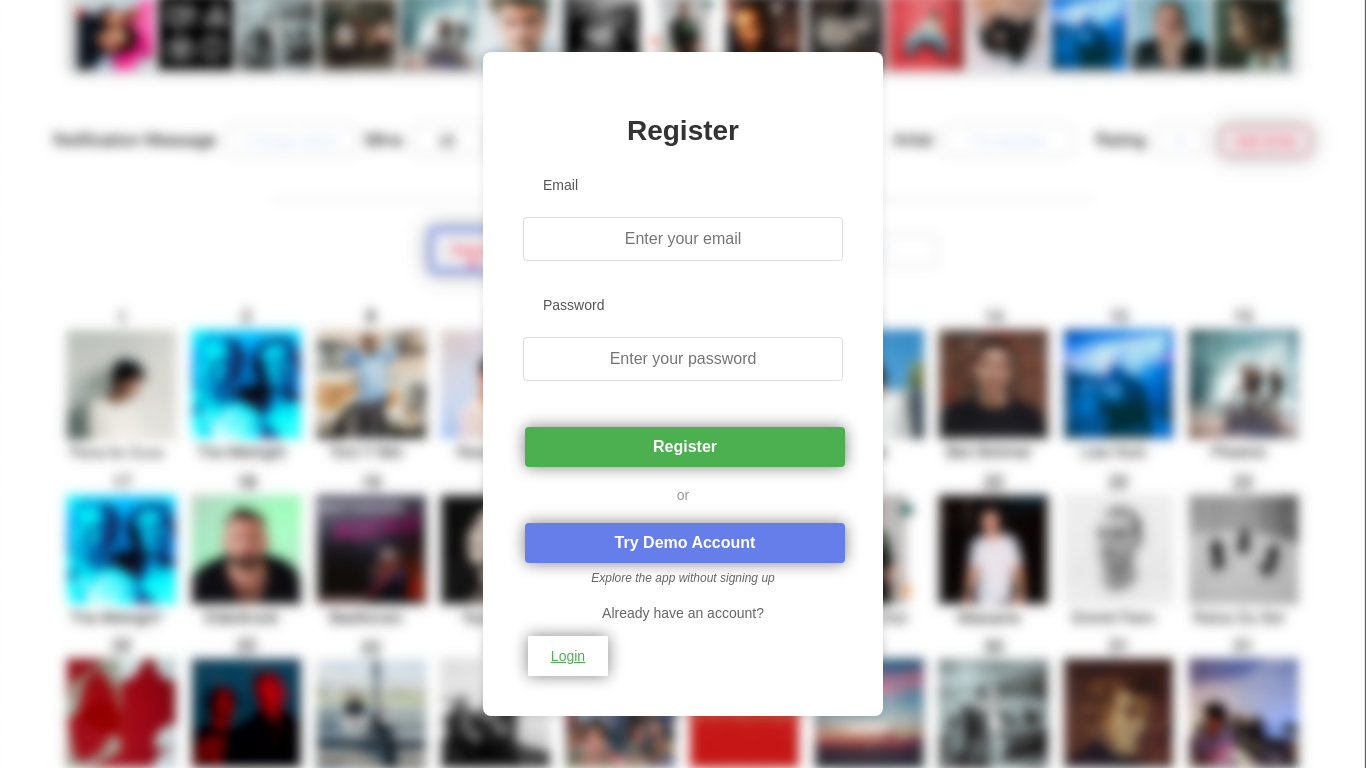
Auth › demo login › shows an error when demo login fails
Click the button "Try Demo Account". click: (685, 543)
box: [525,523,845,563]
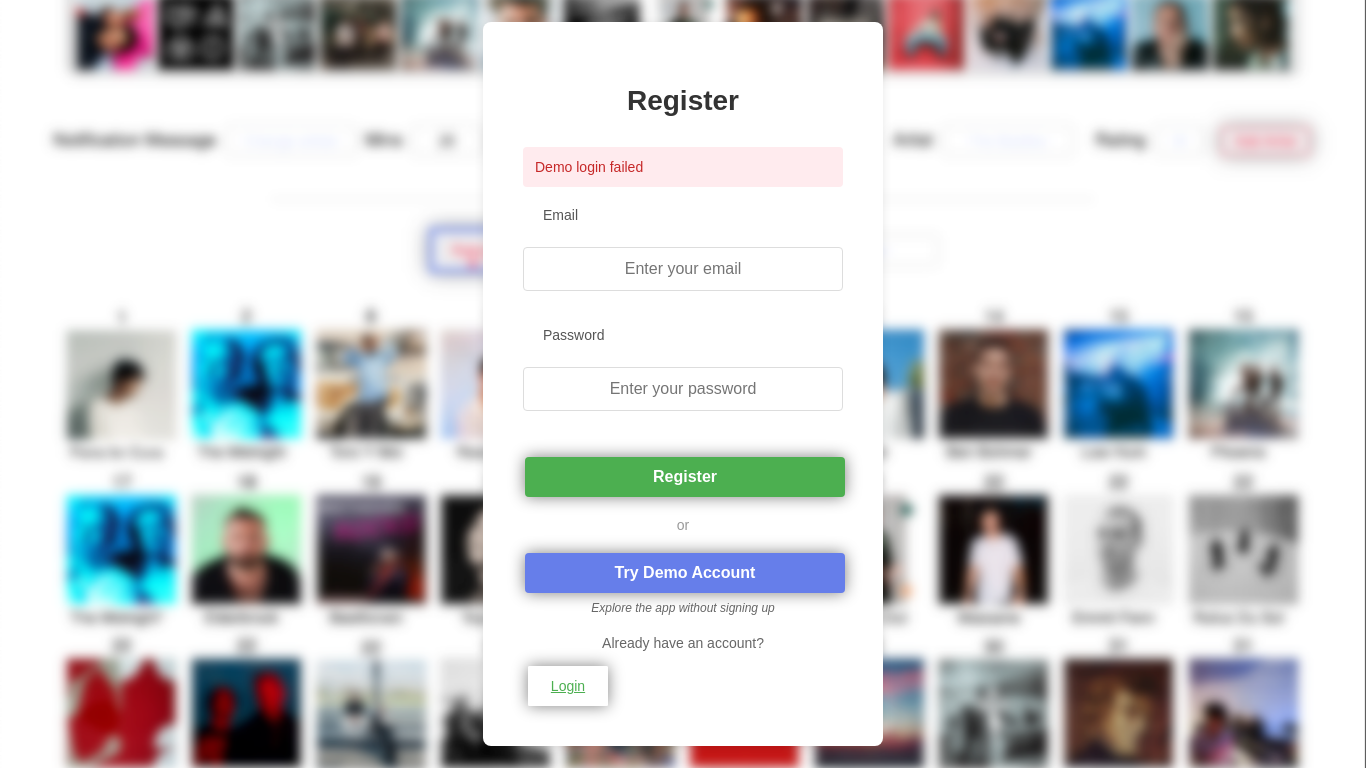
Expected: the text "Demo login failed" is shown, [523,147,843,187]
